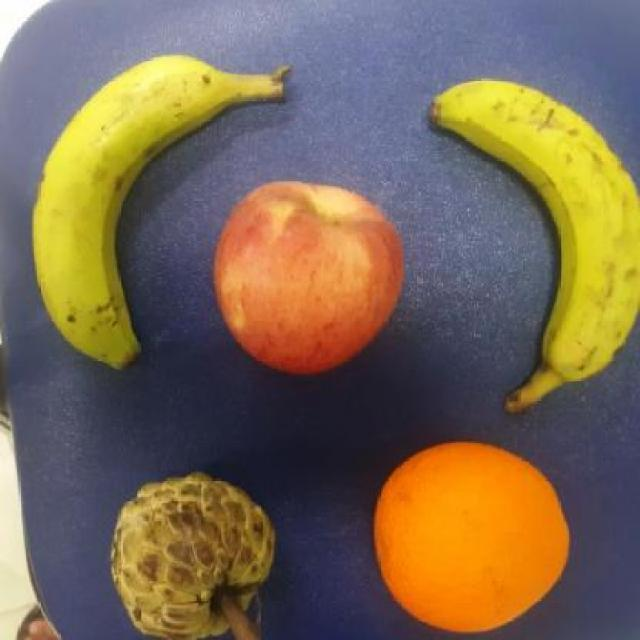apple: (214, 179, 405, 372)
banana: (33, 53, 293, 369), (429, 78, 640, 418)
oren: (373, 441, 572, 637)
sugar apple: (110, 472, 275, 640)
